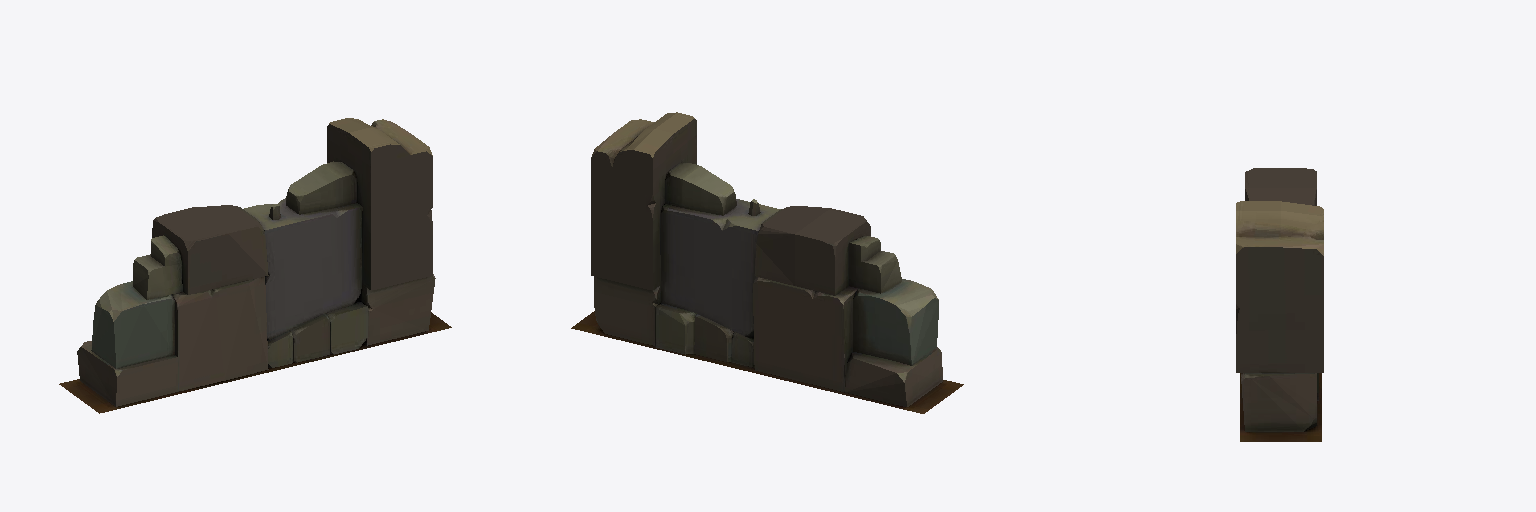
The picture shows the model from 3 angles: view 1: azimuth 30°, elevation 25°; view 2: azimuth 150°, elevation 25°; view 3: azimuth 270°, elevation 25°; orthographic projection.
Parts seen in each view (by area): view 1: OBJ_MIDRock_02; view 2: OBJ_MIDRock_02; view 3: OBJ_MIDRock_02.
Boxes of the visible parts, x1,y1,x2,y2 form: OBJ_MIDRock_02: [59, 118, 451, 413]; OBJ_MIDRock_02: [571, 112, 963, 413]; OBJ_MIDRock_02: [1236, 168, 1323, 441].
Size of the model in its own units: 6 by 3.25 by 1.29.
1 materials, 1 textured.